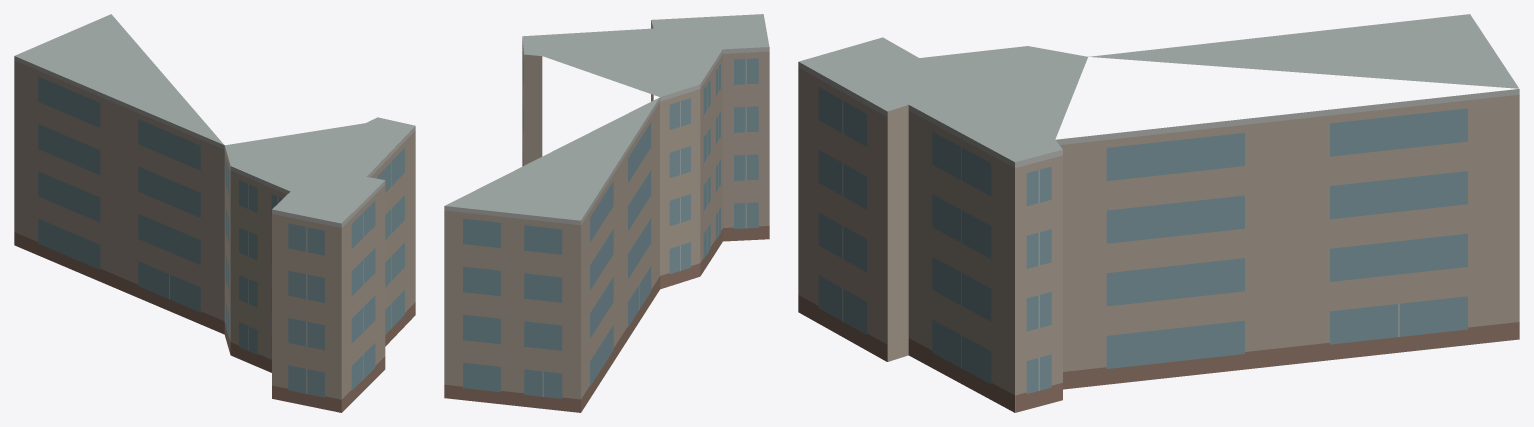
The model's file is survey-upis-33038180.glb.
The picture shows the model from 3 angles, left to right: view 1: azimuth 30°, elevation 25°; view 2: azimuth 150°, elevation 25°; view 3: azimuth 270°, elevation 25°; orthographic projection. The views are drawn at different scales.
Visible parts, largest first — view 1: survey-upis-33038180.tmp; view 2: survey-upis-33038180.tmp; view 3: survey-upis-33038180.tmp.
Part boxes in pixels (x1,y1,x2,y2): survey-upis-33038180.tmp: [14, 14, 415, 412]; survey-upis-33038180.tmp: [444, 14, 769, 412]; survey-upis-33038180.tmp: [798, 14, 1519, 412].
Size of the model in its own units: 13.21 by 10.4 by 27.13.
